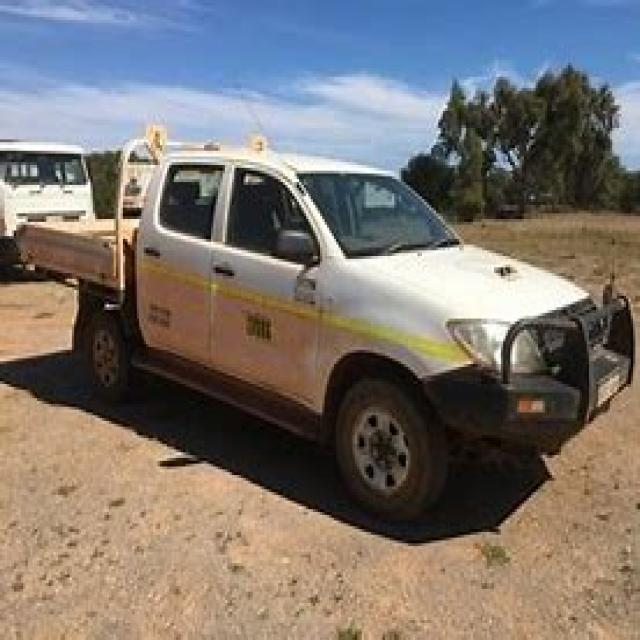light_vehicle: (16, 114, 638, 523)
